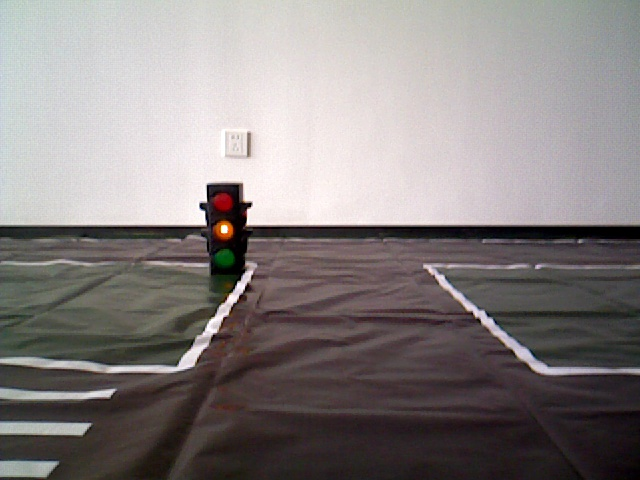yellow: (206, 184, 243, 271)
